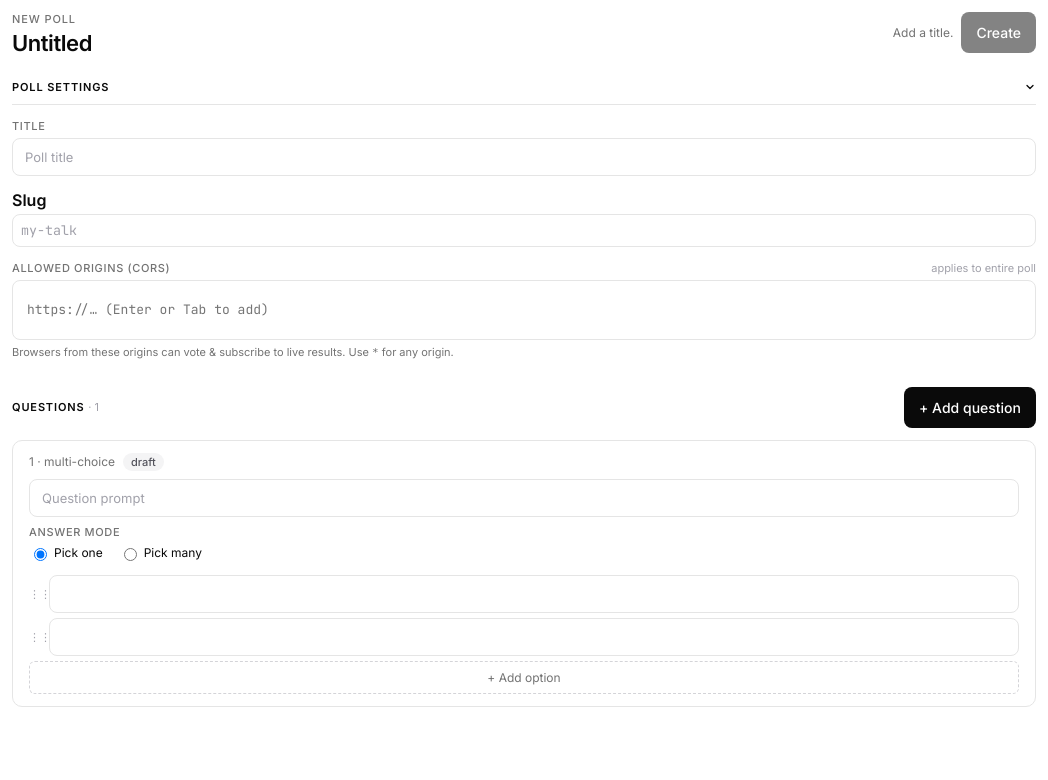
Test: PollEditorPage — create mode › explains why Create is disabled in create mode
This screenshot has width=1048, height=780.
Expected: the button with test id "poll-editor-submit" is disabled, x1=961 y1=12 x2=1036 y2=53
Expected: the text with test id "poll-submit-hint" shows "Add a title", x1=893 y1=25 x2=953 y2=40
Type "My talk" into the field with test id "poll-title" at (524, 157), box x1=12 y1=138 x2=1036 y2=176
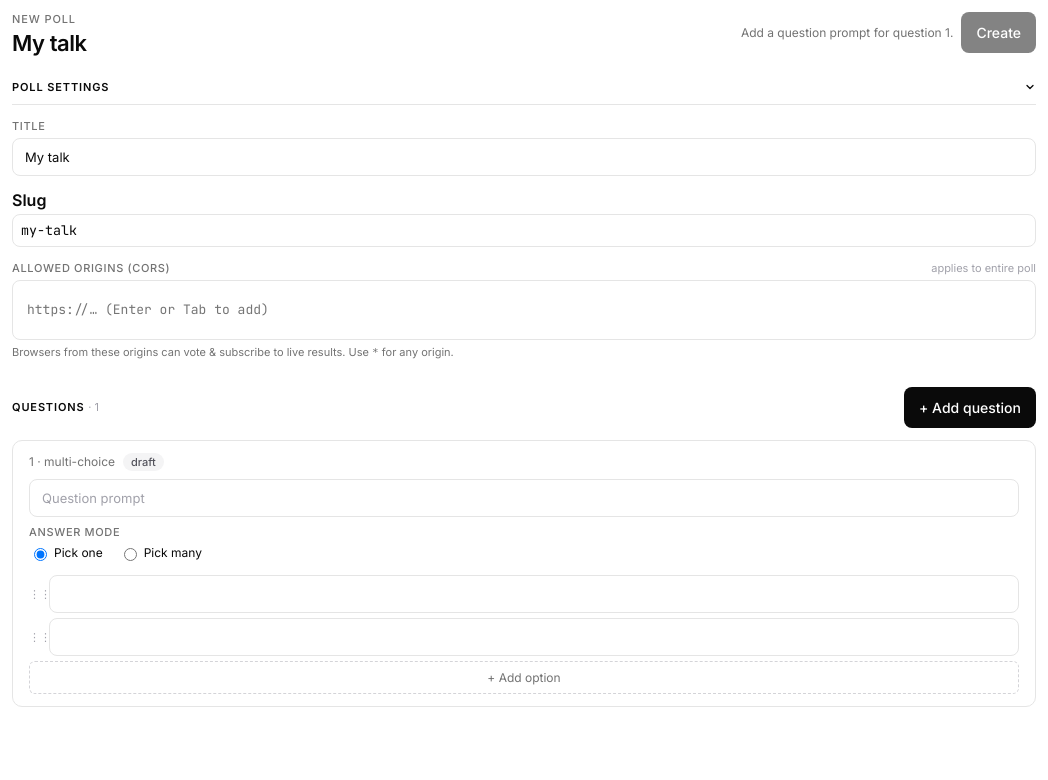
Now the text with test id "poll-submit-hint" shows "Add a question prompt", box x1=741 y1=25 x2=953 y2=40
